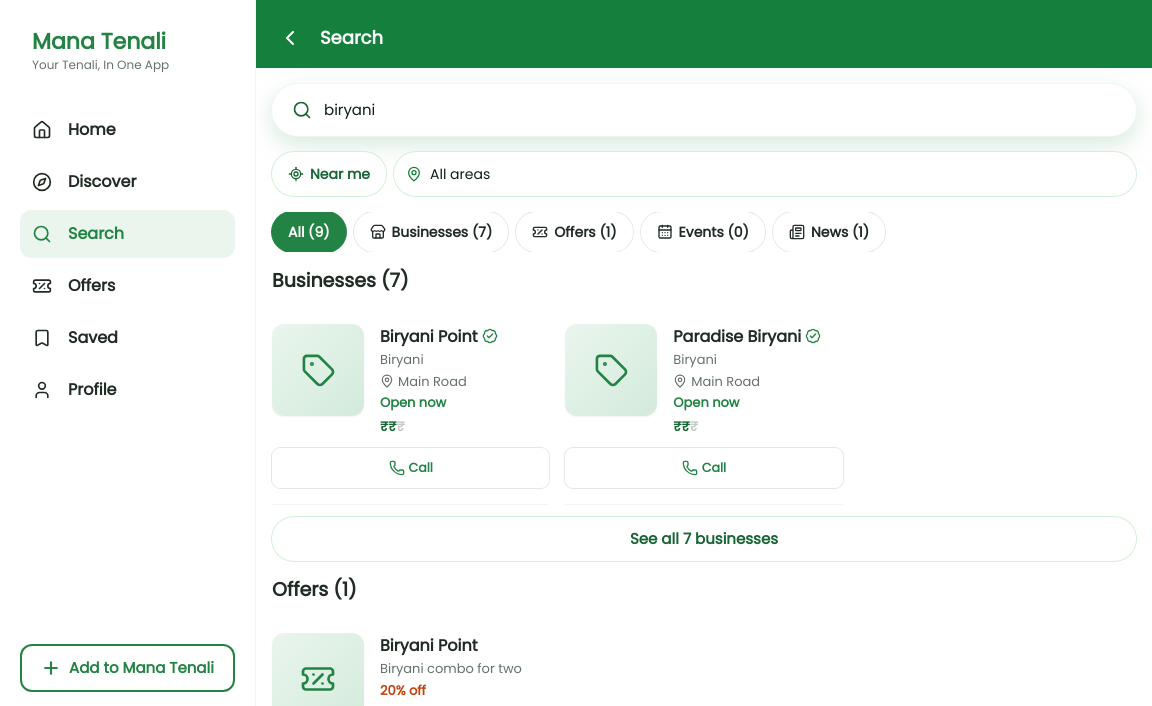
it: /search › groups results by type with counts and tabs; "See all" opens the tab with load more
Expected: the heading "Businesses (7)" is shown, [272,268,409,294]
Expected: the heading "Offers (1)" is shown, [272,577,357,603]
Click the button "See all 7 businesses" at (704, 539), box [272,517,1136,561]
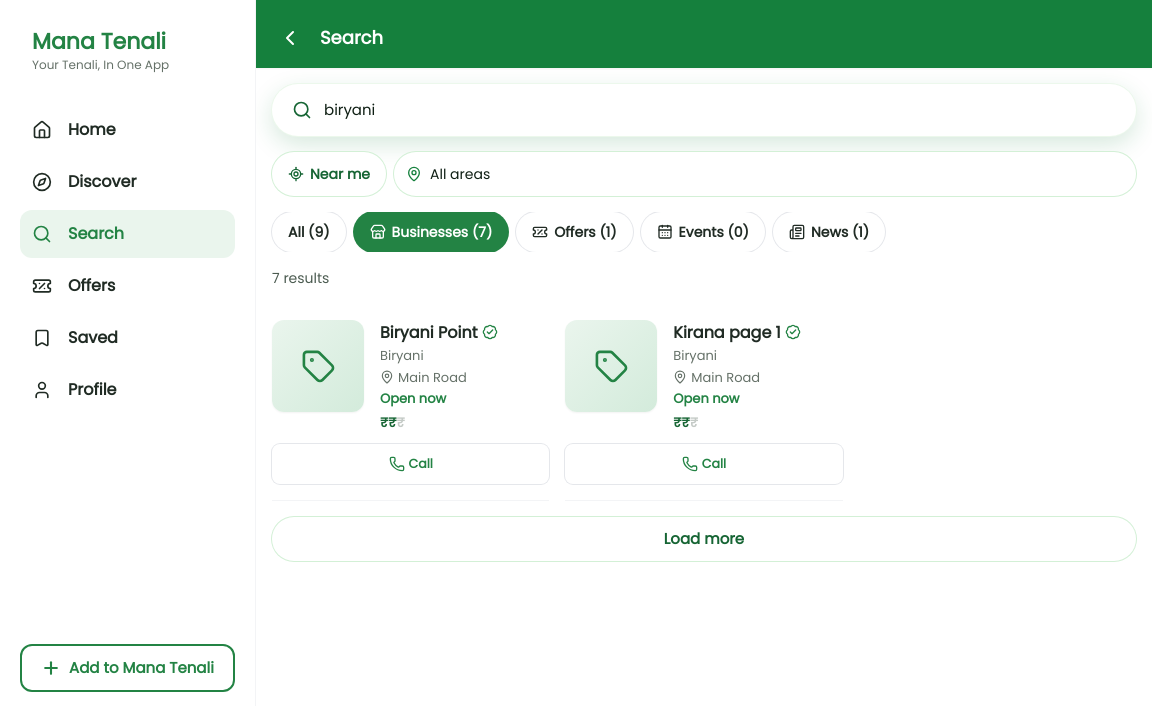
Expected: the heading "Kirana page 1" is shown, [673,321,801,344]
Expected: the text "7 results" is shown, [272,268,329,288]
Click the button "Load more" at (704, 539), box [272,517,1136,561]
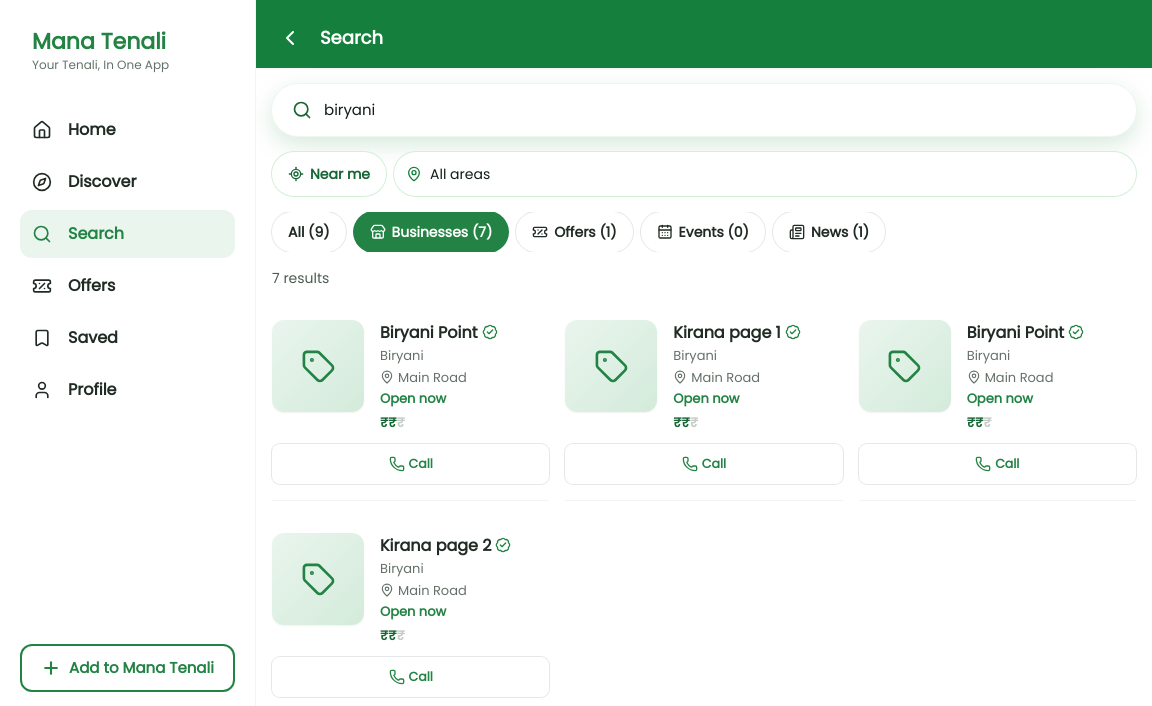
Expected: the heading "Kirana page 2" is shown, [380,534,512,557]
